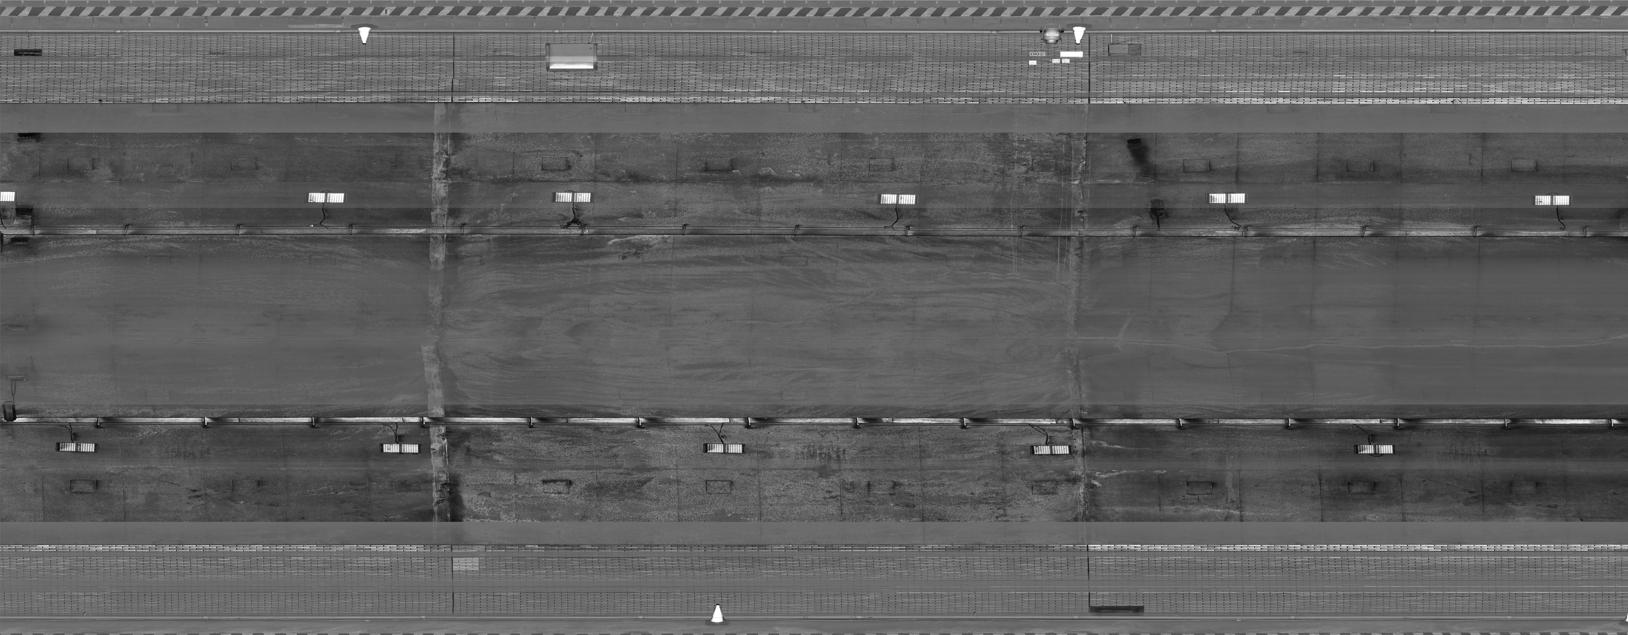light: (303, 186, 349, 206), (549, 187, 595, 208), (1351, 439, 1398, 459), (53, 437, 99, 457), (377, 437, 423, 457), (701, 437, 747, 457), (874, 189, 920, 209), (1029, 439, 1075, 459), (1203, 189, 1249, 209), (1528, 189, 1574, 209), (1, 184, 21, 205)
